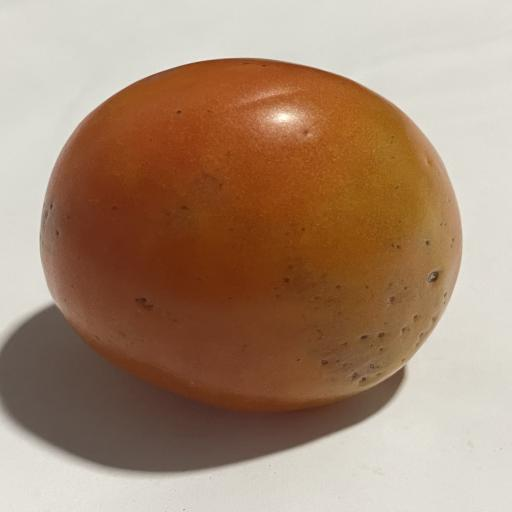unripe: (40, 58, 461, 411)
